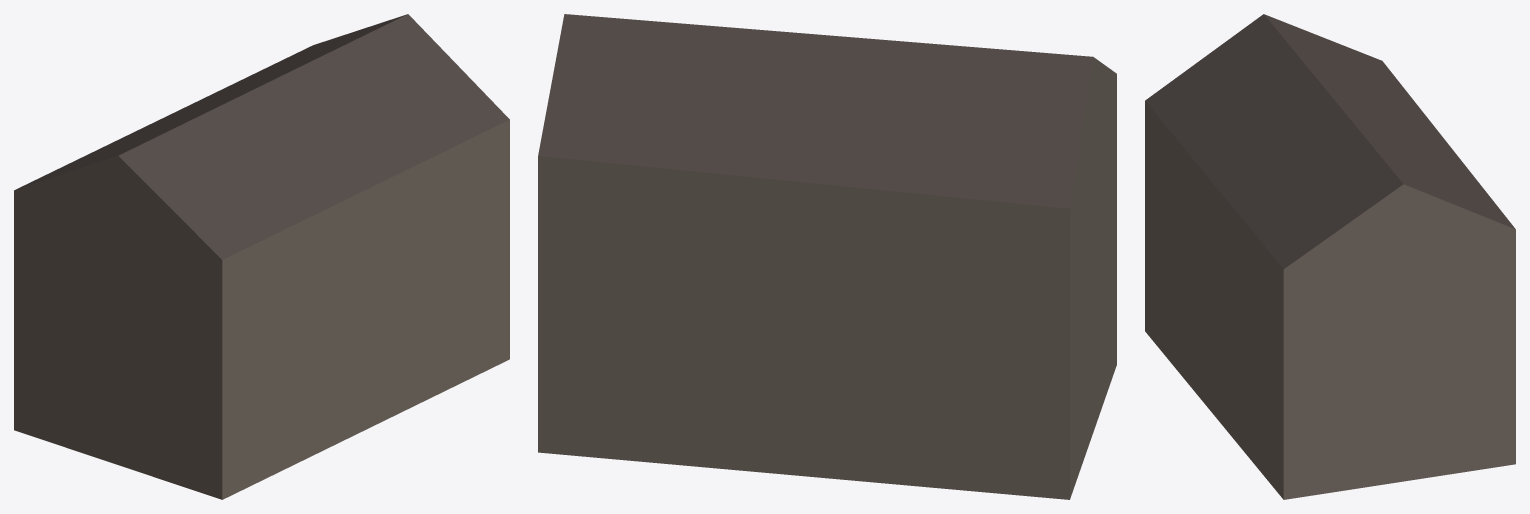
3 renders of one model, left to right at view 1: azimuth 30°, elevation 25°; view 2: azimuth 150°, elevation 25°; view 3: azimuth 270°, elevation 25°, orthographic. The views are drawn at different scales.
Visible parts, largest first — view 1: HP-w1198845819; view 2: HP-w1198845819; view 3: HP-w1198845819.
Part boxes in pixels (left/top/right/bottom): HP-w1198845819: left=14, top=14, right=509, bottom=499; HP-w1198845819: left=538, top=14, right=1116, bottom=499; HP-w1198845819: left=1145, top=14, right=1515, bottom=499.
Size of the model in its own units: 11.63 by 7.74 by 8.75.
